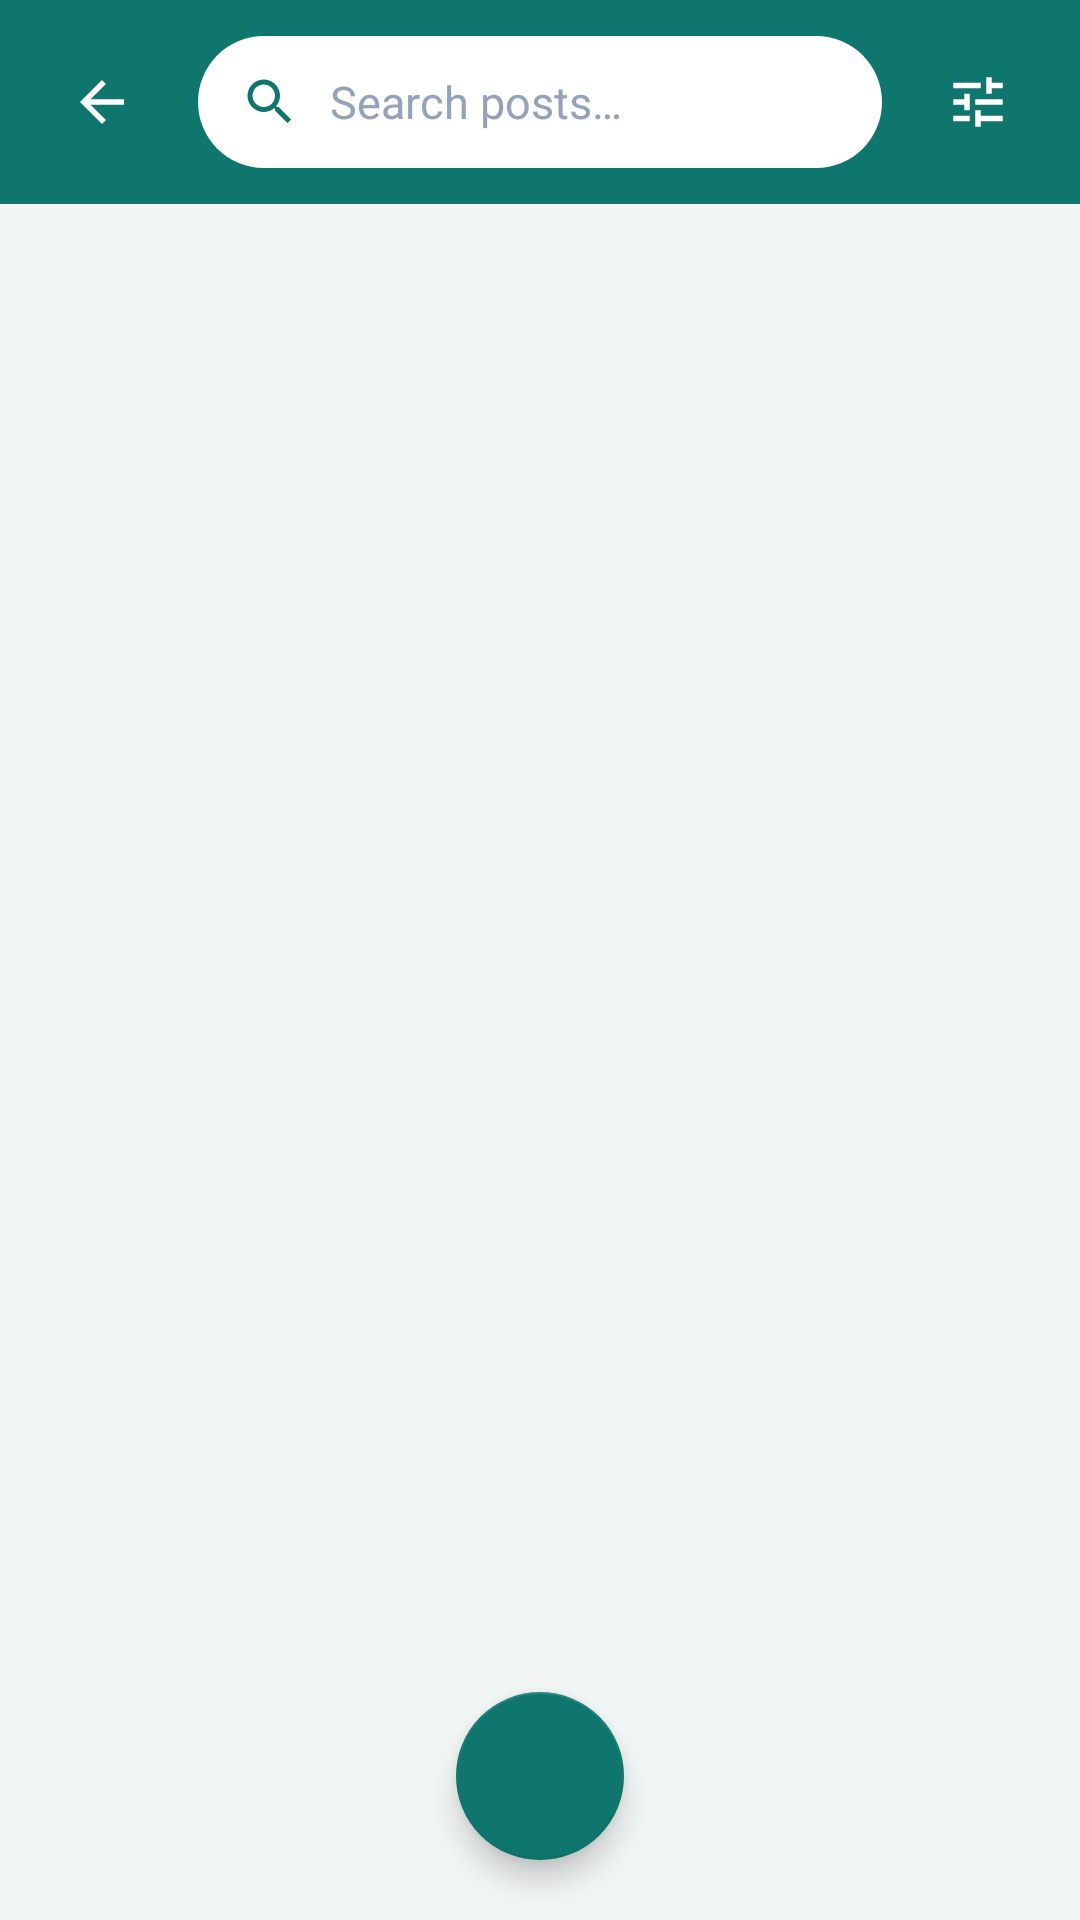

Icon click points for this 1080*1920 phone screenshot, format (x=x, y=y):
Back: (x=102, y=102)
Filter: (x=978, y=102)
